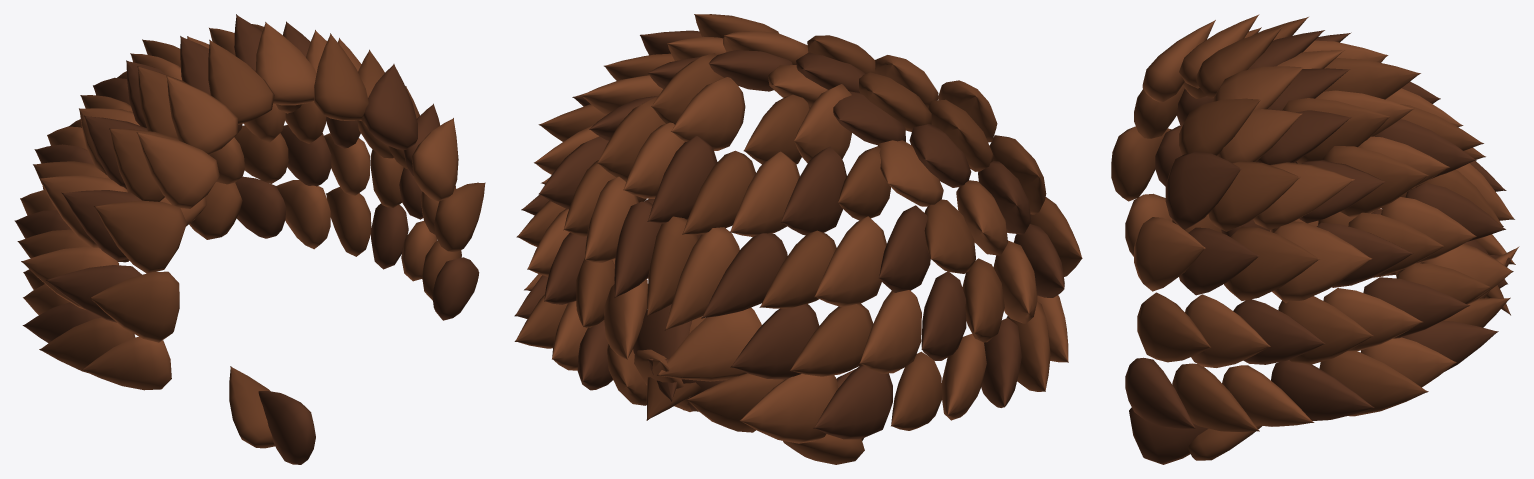
Rendered from hedgehog-epic-v2-accessories.fbx.
3 views of the same model, side by side, from view 1: azimuth 30°, elevation 25°; view 2: azimuth 150°, elevation 25°; view 3: azimuth 270°, elevation 25° (orthographic). The views are drawn at different scales.
Parts seen in each view (by area): view 1: hedgehog_Quills; view 2: hedgehog_Quills; view 3: hedgehog_Quills.
Part boxes in pixels (x1,y1,x2,y2): hedgehog_Quills: (14, 14, 485, 464); hedgehog_Quills: (514, 14, 1082, 464); hedgehog_Quills: (1111, 14, 1519, 464).
Bounding box in the file's own units: 1536 × 1338 × 1167.
1 material, 1 textured.
